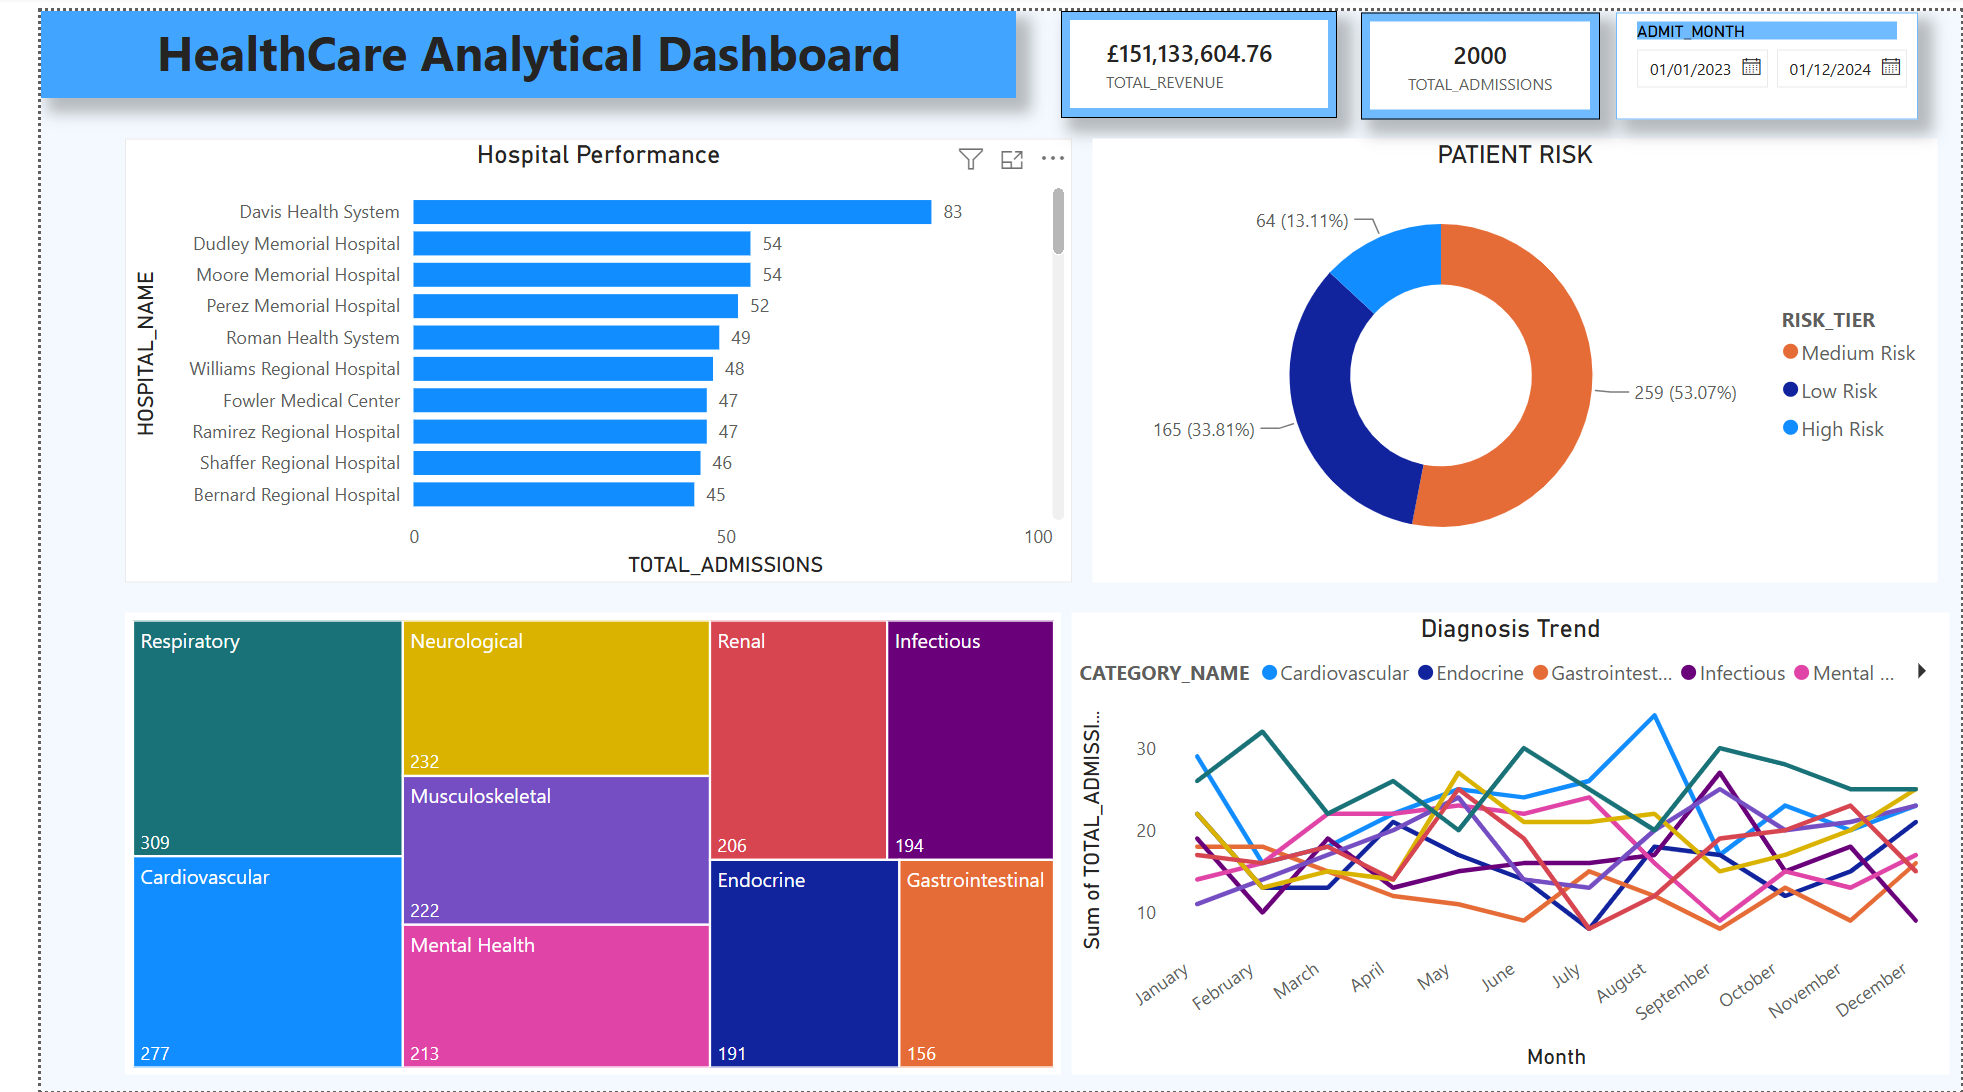

Layout of this report page (visuals, bound fields, positions):
{"tool":"powerbi","page":{"name":"Healthtrack","canvas":[1280,720],"ordinal":0},"visuals":[{"type":"barChart","title":"Hospital Performance","fields":{"Category":["MART_HOSPITAL_KPIS.HOSPITAL_NAME"],"Y":["Sum(MART_HOSPITAL_KPIS.TOTAL_ADMISSIONS)"]},"box":[56,85,631,296],"z":0},{"type":"cardVisual","fields":{"Data":["Sum(MART_HOSPITAL_KPIS.TOTAL_REVENUE)"]},"box":[680,0,184,71],"z":1000},{"type":"lineChart","title":"Diagnosis Trend","fields":{"Category":["MART_DIAGNOSIS_TRENDS.ADMIT_MONTH.Variation.Date Hierarchy.Month"],"Y":["Sum(MART_DIAGNOSIS_TRENDS.TOTAL_ADMISSIONS)"],"Series":["MART_DIAGNOSIS_TRENDS.CATEGORY_NAME"]},"box":[687,401,585,308],"z":2000},{"type":"treemap","fields":{"Group":["MART_DIAGNOSIS_TRENDS.CATEGORY_NAME"],"Values":["Sum(MART_DIAGNOSIS_TRENDS.TOTAL_ADMISSIONS)"]},"box":[56,401,624,308],"z":3000},{"type":"donutChart","title":"PATIENT RISK","fields":{"Y":["CountNonNull(MART_PATIENT_RISK.PATIENT_SK)"],"Category":["MART_PATIENT_RISK.RISK_TIER"]},"box":[701,85,563,296],"z":3001},{"type":"textbox","box":[0,0,650,58],"z":3002},{"type":"cardVisual","fields":{"Data":["Sum(MART_DIAGNOSIS_TRENDS.TOTAL_ADMISSIONS)"]},"box":[880,1,159,71],"z":3003},{"type":"slicer","fields":{"Values":["MART_HOSPITAL_KPIS.ADMIT_MONTH"]},"box":[1050,1,201,71],"z":3004}]}

Visuals, with their boxes in screenshot pixels (x1, y1, x2, y2), scaled from the page's 1280x720 canvas onto the 1963x1092 screenshot:
"Hospital Performance" barChart: {"left": 86, "top": 129, "right": 1054, "bottom": 578}
cardVisual - Sum(MART_HOSPITAL_KPIS.TOTAL_REVENUE): {"left": 1043, "top": 0, "right": 1325, "bottom": 108}
"Diagnosis Trend" lineChart: {"left": 1054, "top": 608, "right": 1951, "bottom": 1075}
treemap - MART_DIAGNOSIS_TRENDS.CATEGORY_NAME x Sum(MART_DIAGNOSIS_TRENDS.TOTAL_ADMISSIONS): {"left": 86, "top": 608, "right": 1043, "bottom": 1075}
"PATIENT RISK" donutChart: {"left": 1075, "top": 129, "right": 1938, "bottom": 578}
textbox: {"left": 0, "top": 0, "right": 997, "bottom": 88}
cardVisual - Sum(MART_DIAGNOSIS_TRENDS.TOTAL_ADMISSIONS): {"left": 1350, "top": 2, "right": 1593, "bottom": 109}
slicer - MART_HOSPITAL_KPIS.ADMIT_MONTH: {"left": 1610, "top": 2, "right": 1919, "bottom": 109}
